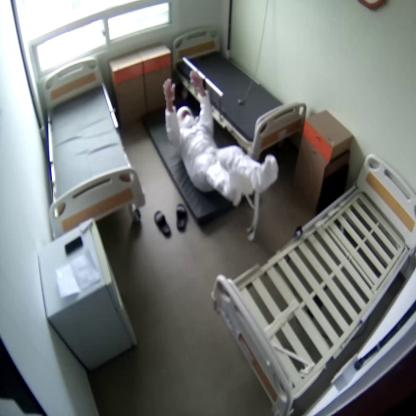Person: (163, 70, 278, 204)
